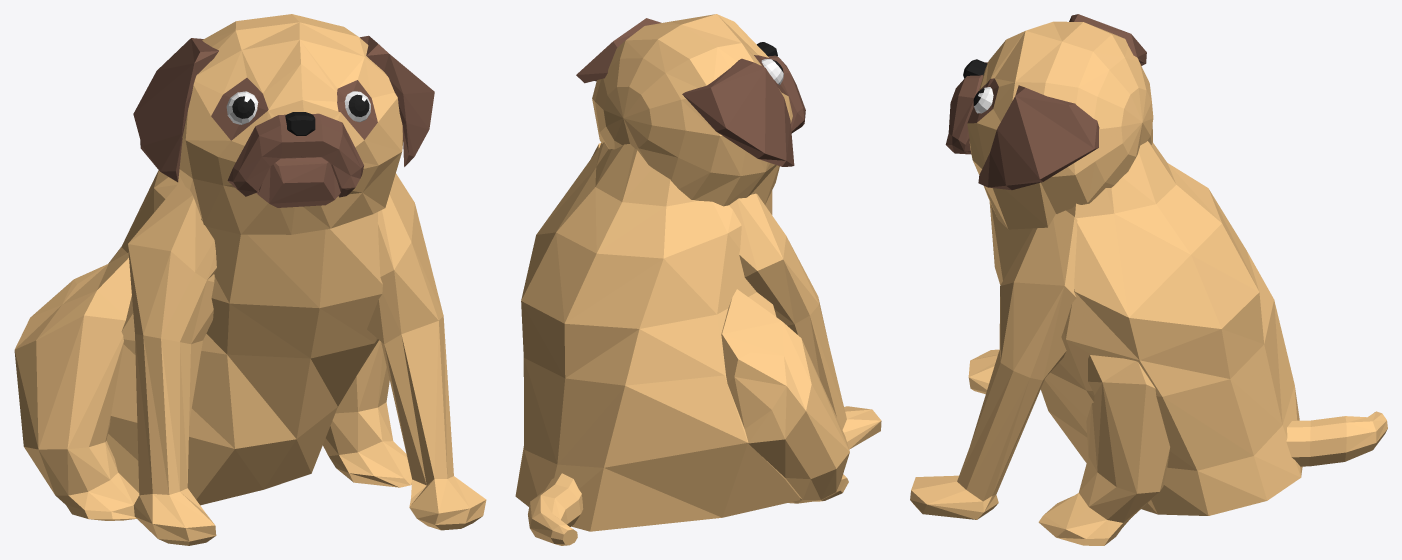
Rendered from shiba.glb.
3 views of the same model, side by side, from view 1: azimuth 30°, elevation 25°; view 2: azimuth 150°, elevation 25°; view 3: azimuth 270°, elevation 25° (orthographic). The views are drawn at different scales.
Parts seen in each view (by area): view 1: group1184196324, group1387379420, group2116817717, group505342652, group1793351774, group685108320, group1511730847, group1207776990, group900751713, group1236413040, group467083446, group1208538360 (+2 smaller); view 2: group1184196324, group1387379420, group505342652, group2116817717, group1511730847, group441939820, group900751713, group1236413040; view 3: group1184196324, group1387379420, group1793351774, group685108320, group900751713, group441939820, group467083446, group2116817717, group1511730847.
Boxes of the visible parts, <box> form: group1184196324: <box>106,170,382,505</box>; group1387379420: <box>179,14,403,234</box>; group2116817717: <box>128,180,216,545</box>; group505342652: <box>14,252,139,520</box>; group1793351774: <box>367,173,486,530</box>; group685108320: <box>323,340,411,487</box>; group1511730847: <box>133,38,218,182</box>; group1207776990: <box>256,157,340,207</box>; group900751713: <box>360,35,434,166</box>; group1236413040: <box>227,114,302,196</box>; group467083446: <box>301,113,363,197</box>; group1208538360: <box>226,91,258,124</box>; group1184196324: <box>515,142,799,531</box>; group1387379420: <box>592,14,792,206</box>; group505342652: <box>721,289,849,503</box>; group2116817717: <box>729,193,881,449</box>; group1511730847: <box>682,58,794,166</box>; group441939820: <box>528,473,583,545</box>; group900751713: <box>576,18,661,83</box>; group1236413040: <box>768,55,805,133</box>; group1184196324: <box>989,141,1302,515</box>; group1387379420: <box>967,21,1153,229</box>; group1793351774: <box>910,210,1077,519</box>; group685108320: <box>1038,355,1170,545</box>; group900751713: <box>978,85,1099,190</box>; group441939820: <box>1286,411,1387,466</box>; group467083446: <box>945,75,982,154</box>; group2116817717: <box>968,349,999,394</box>; group1511730847: <box>1069,14,1146,65</box>.
Size of the model in its own units: 0.3371 by 0.4543 by 0.4332.
